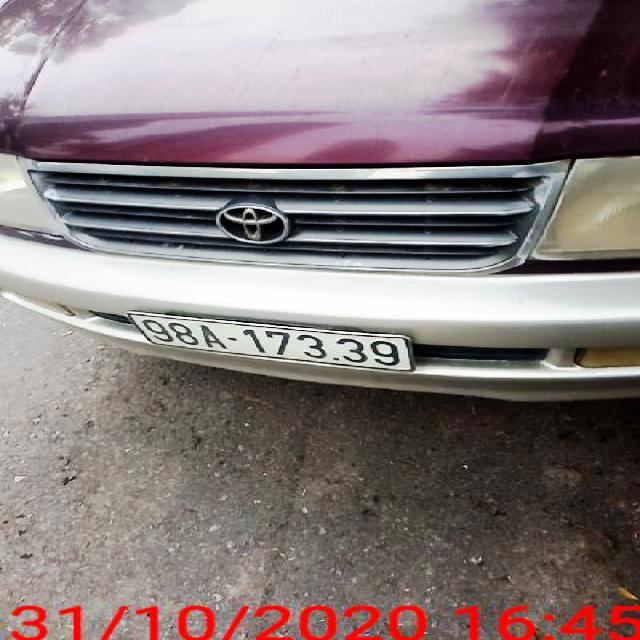license_plate: (130, 315, 412, 371)
